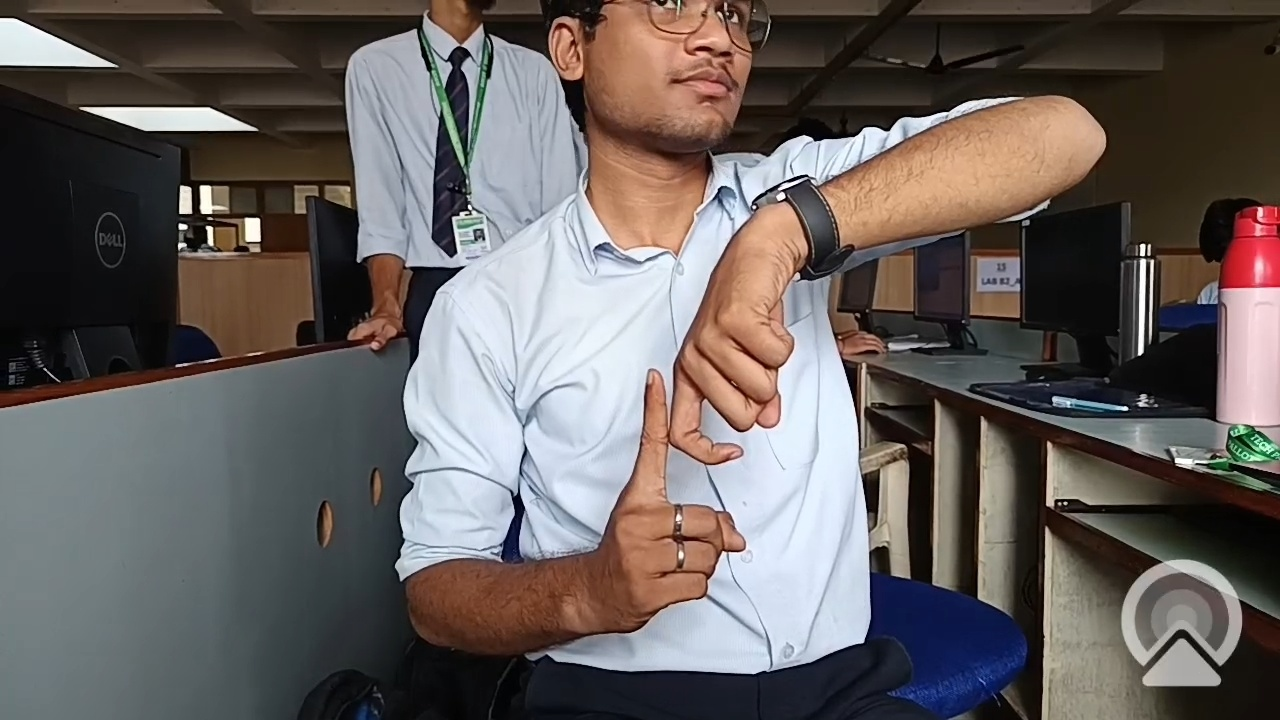K: (517, 209, 857, 649)
